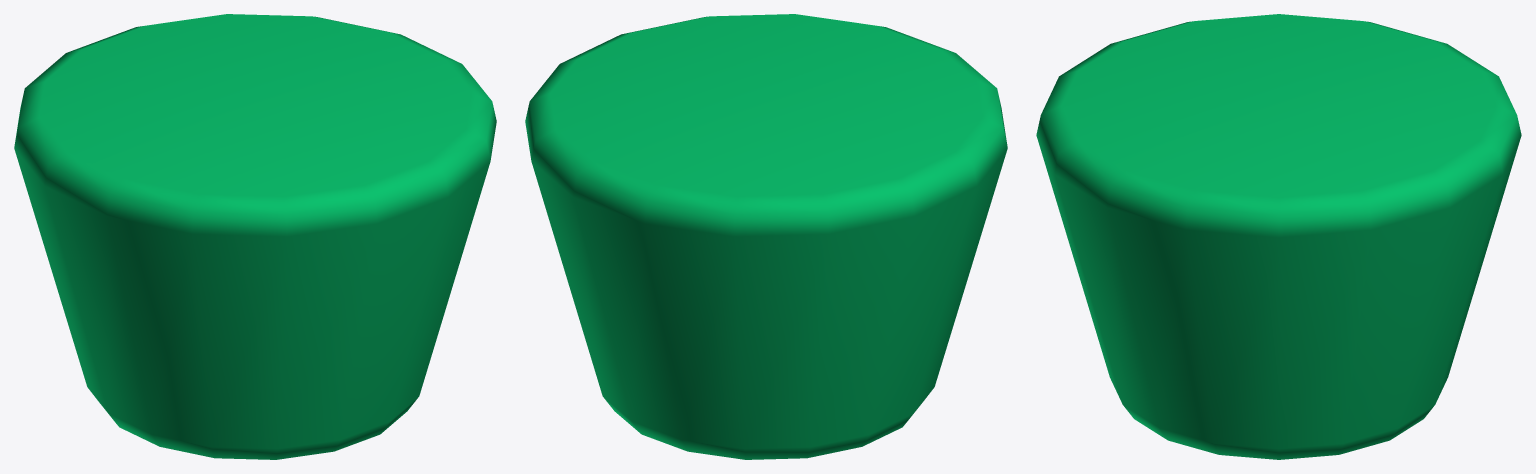
Rendered from Town_8_Plant_4.glb.
3 renders of one model, left to right at view 1: azimuth 30°, elevation 25°; view 2: azimuth 150°, elevation 25°; view 3: azimuth 270°, elevation 25°, orthographic.
Parts seen in each view (by area): view 1: Town_8_Plant_4; view 2: Town_8_Plant_4; view 3: Town_8_Plant_4.
Part boxes in pixels (<box>): Town_8_Plant_4: <box>14,14,496,459</box>; Town_8_Plant_4: <box>525,14,1007,459</box>; Town_8_Plant_4: <box>1036,14,1521,459</box>.
Bounding box in the file's own units: 0.7453 × 0.4984 × 0.7453.
Materials: 1 (1 with a texture image).
